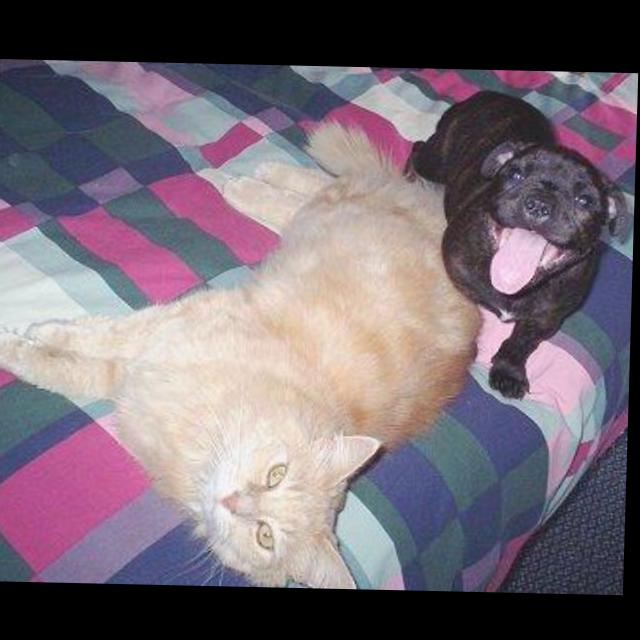am_pit_bull_terrier: (400, 84, 631, 400)
